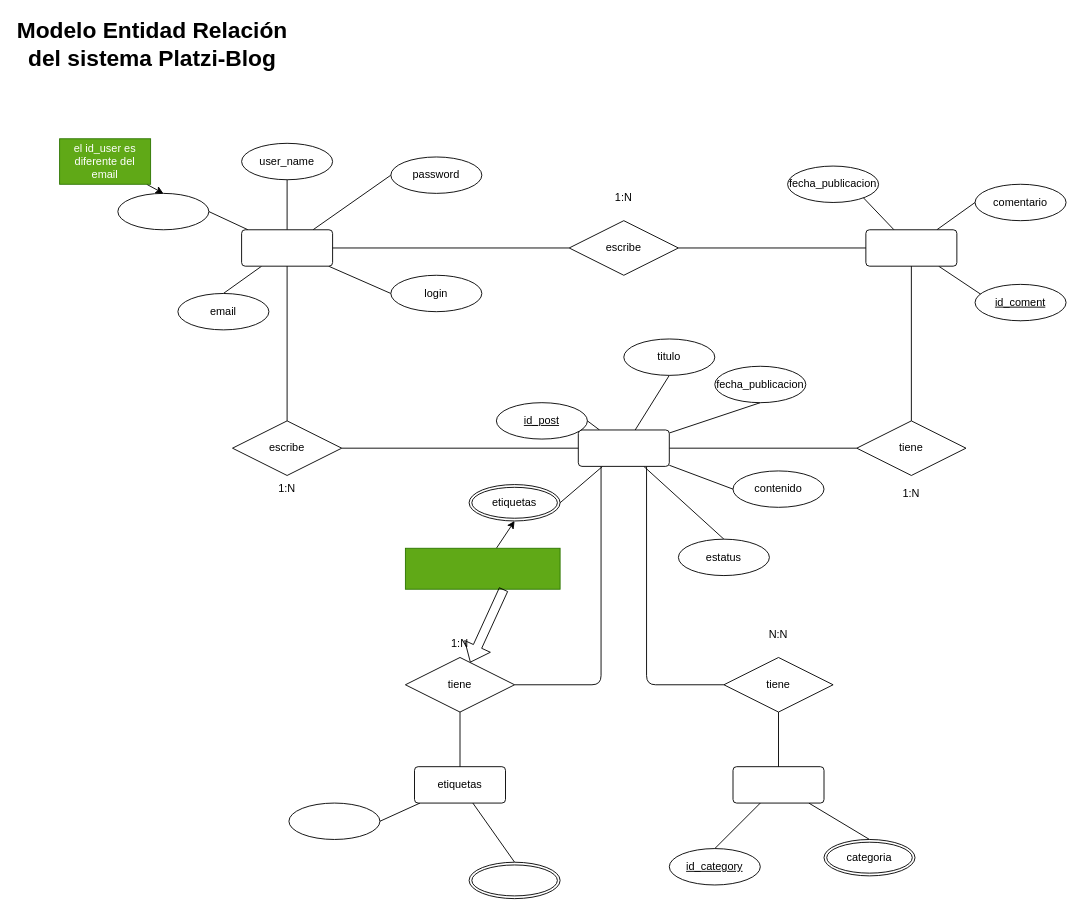
Image size: 1082x915. Some labels were removed from this diagram. The box of each missing label's shape, as (x1, y1, x2, y2) in pixels:
Categorias: (732, 766, 824, 803)
Comentarios: (865, 229, 957, 266)
en algunos casos los atributos multivaluados se transforman en entidades: (404, 547, 560, 589)
id_etiqueta: (288, 802, 380, 839)
id_user: (117, 192, 209, 230)
nom_etiqueta: (468, 861, 560, 899)
Posts: (577, 429, 669, 466)
Usuarios: (241, 229, 333, 266)
